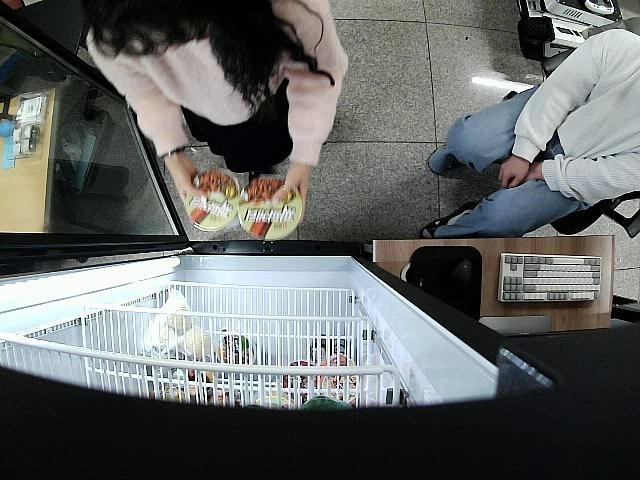03_chapagetti_L: (238, 173, 300, 241), (186, 168, 245, 232)
